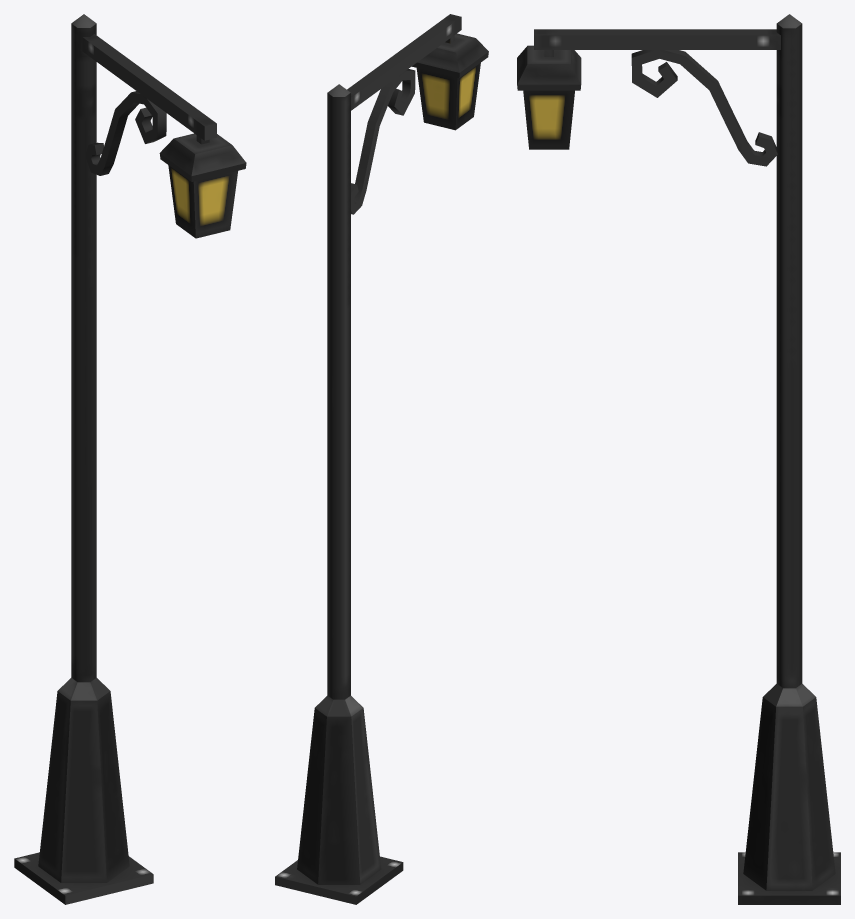
Rendered from Street_Light_001_C.FBX.
3 renders of one model, left to right at view 1: azimuth 30°, elevation 25°; view 2: azimuth 150°, elevation 25°; view 3: azimuth 270°, elevation 25°, orthographic. The views are drawn at different scales.
Parts seen in each view (by area): view 1: Street_Light_001_C; view 2: Street_Light_001_C; view 3: Street_Light_001_C.
Boxes of the visible parts, x1=… form: Street_Light_001_C: x1=14, y1=14, x2=246, y2=904; Street_Light_001_C: x1=275, y1=14, x2=488, y2=904; Street_Light_001_C: x1=517, y1=14, x2=840, y2=904.
Size of the model in its own units: 30 by 94.52 by 280.
